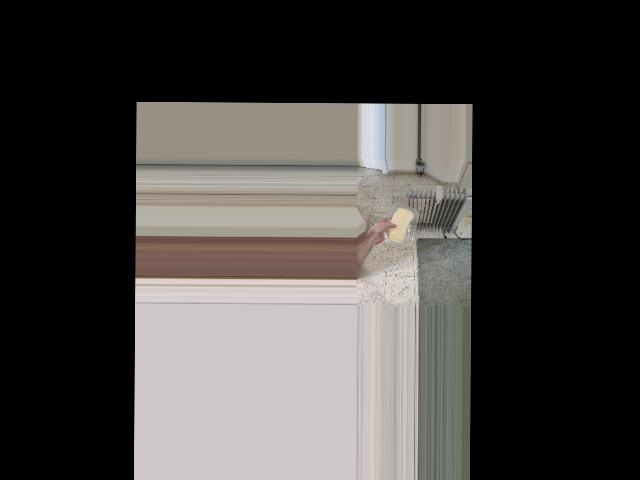cheese: (385, 204, 414, 245)
